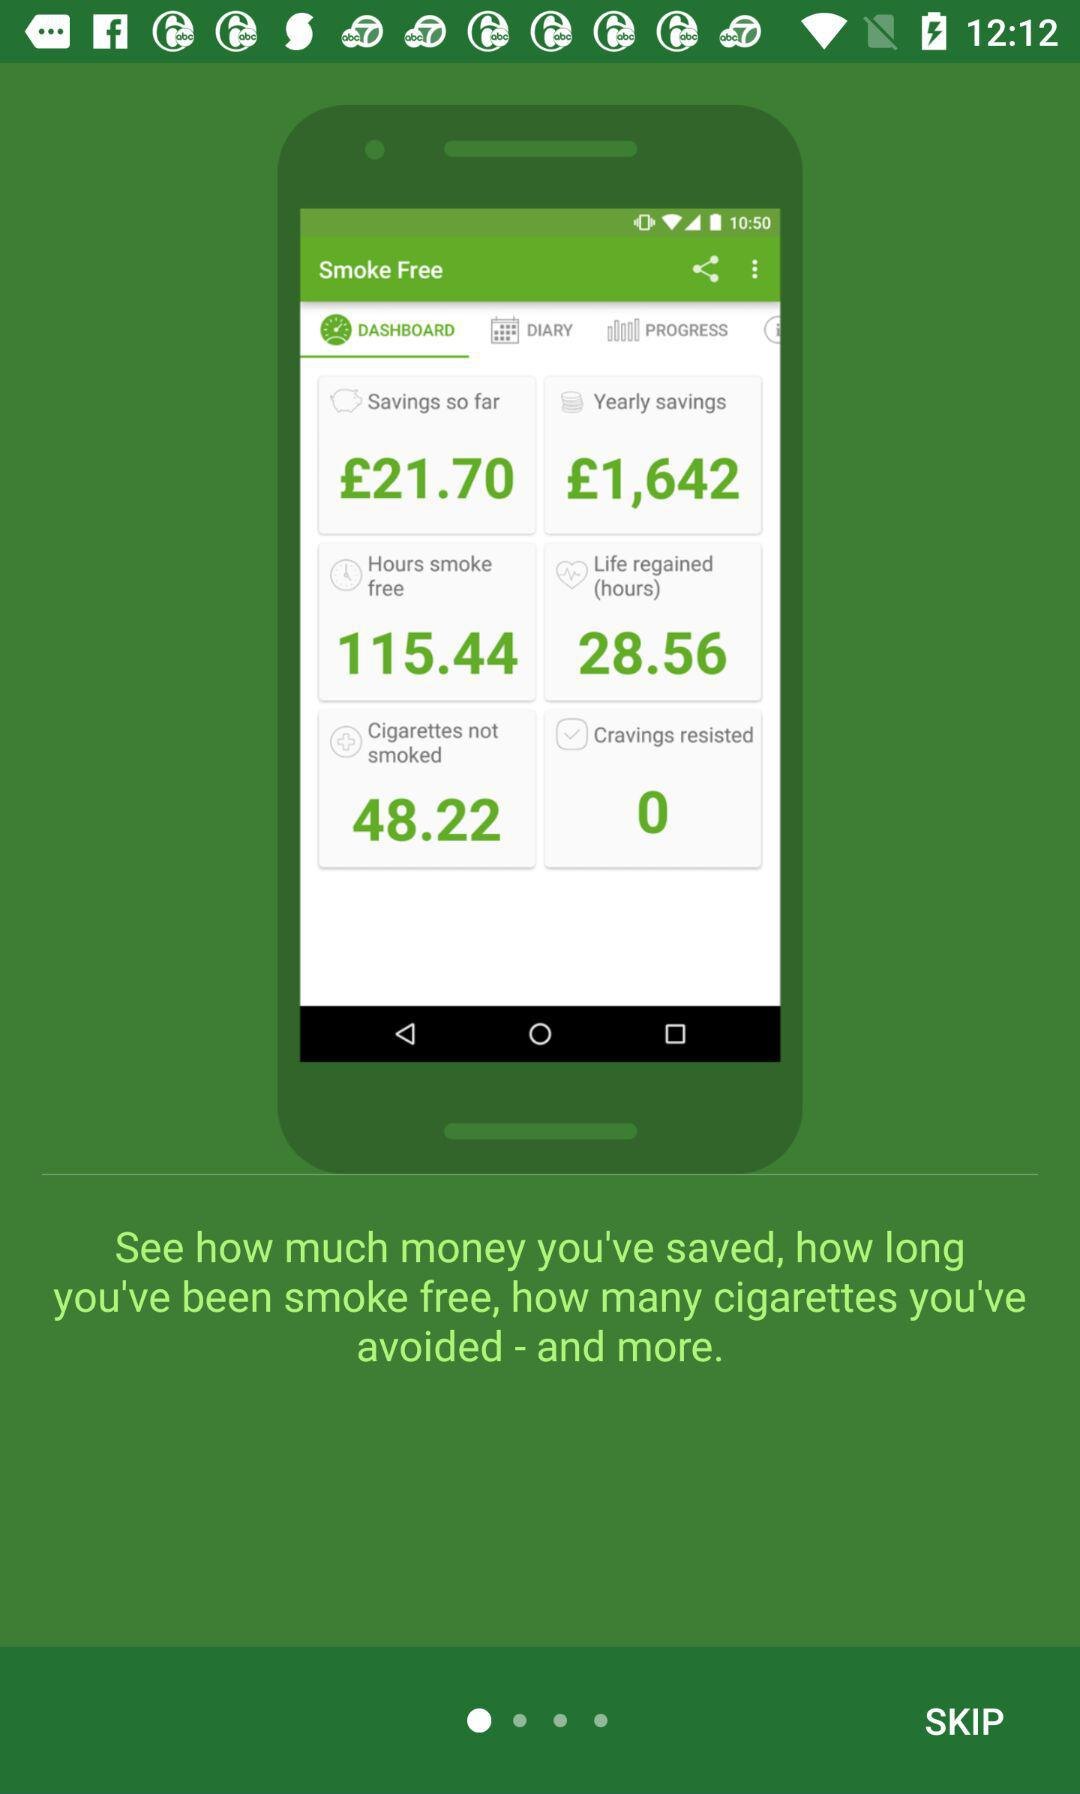Image: (275, 104, 805, 1175)
PageIndicator: (466, 1707, 610, 1734)
Text: (924, 1706, 1004, 1738)
TextButton: (54, 1229, 1027, 1365)
UpperTaskBar: (1, 1, 1080, 64)
